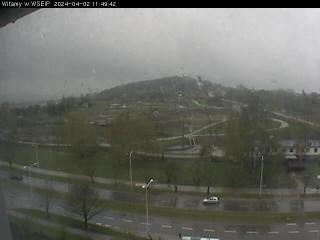car: (203, 195, 219, 205), (10, 174, 24, 182)
